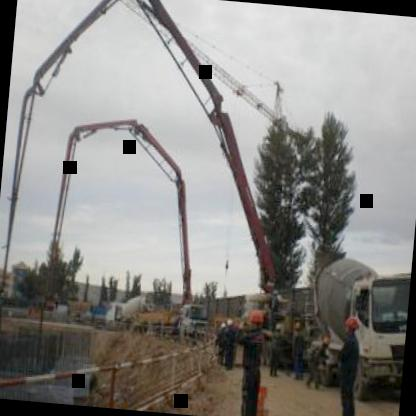helmet: (243, 304, 263, 332), (340, 316, 360, 341)
